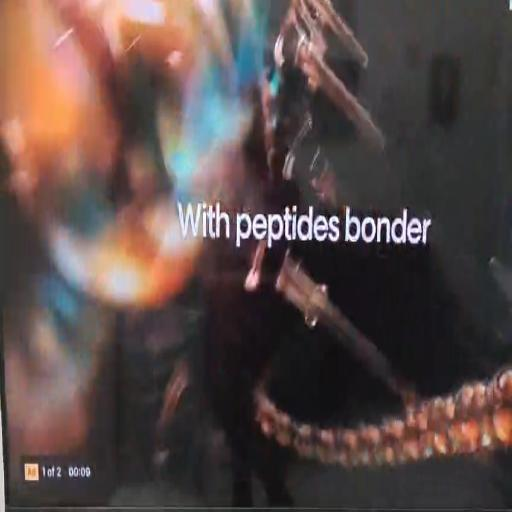ad label: (22, 460, 42, 488)
